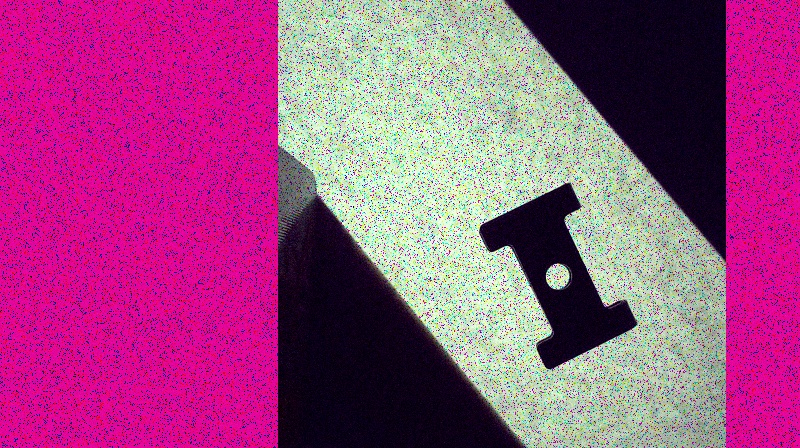O002: (475, 179, 638, 374)
